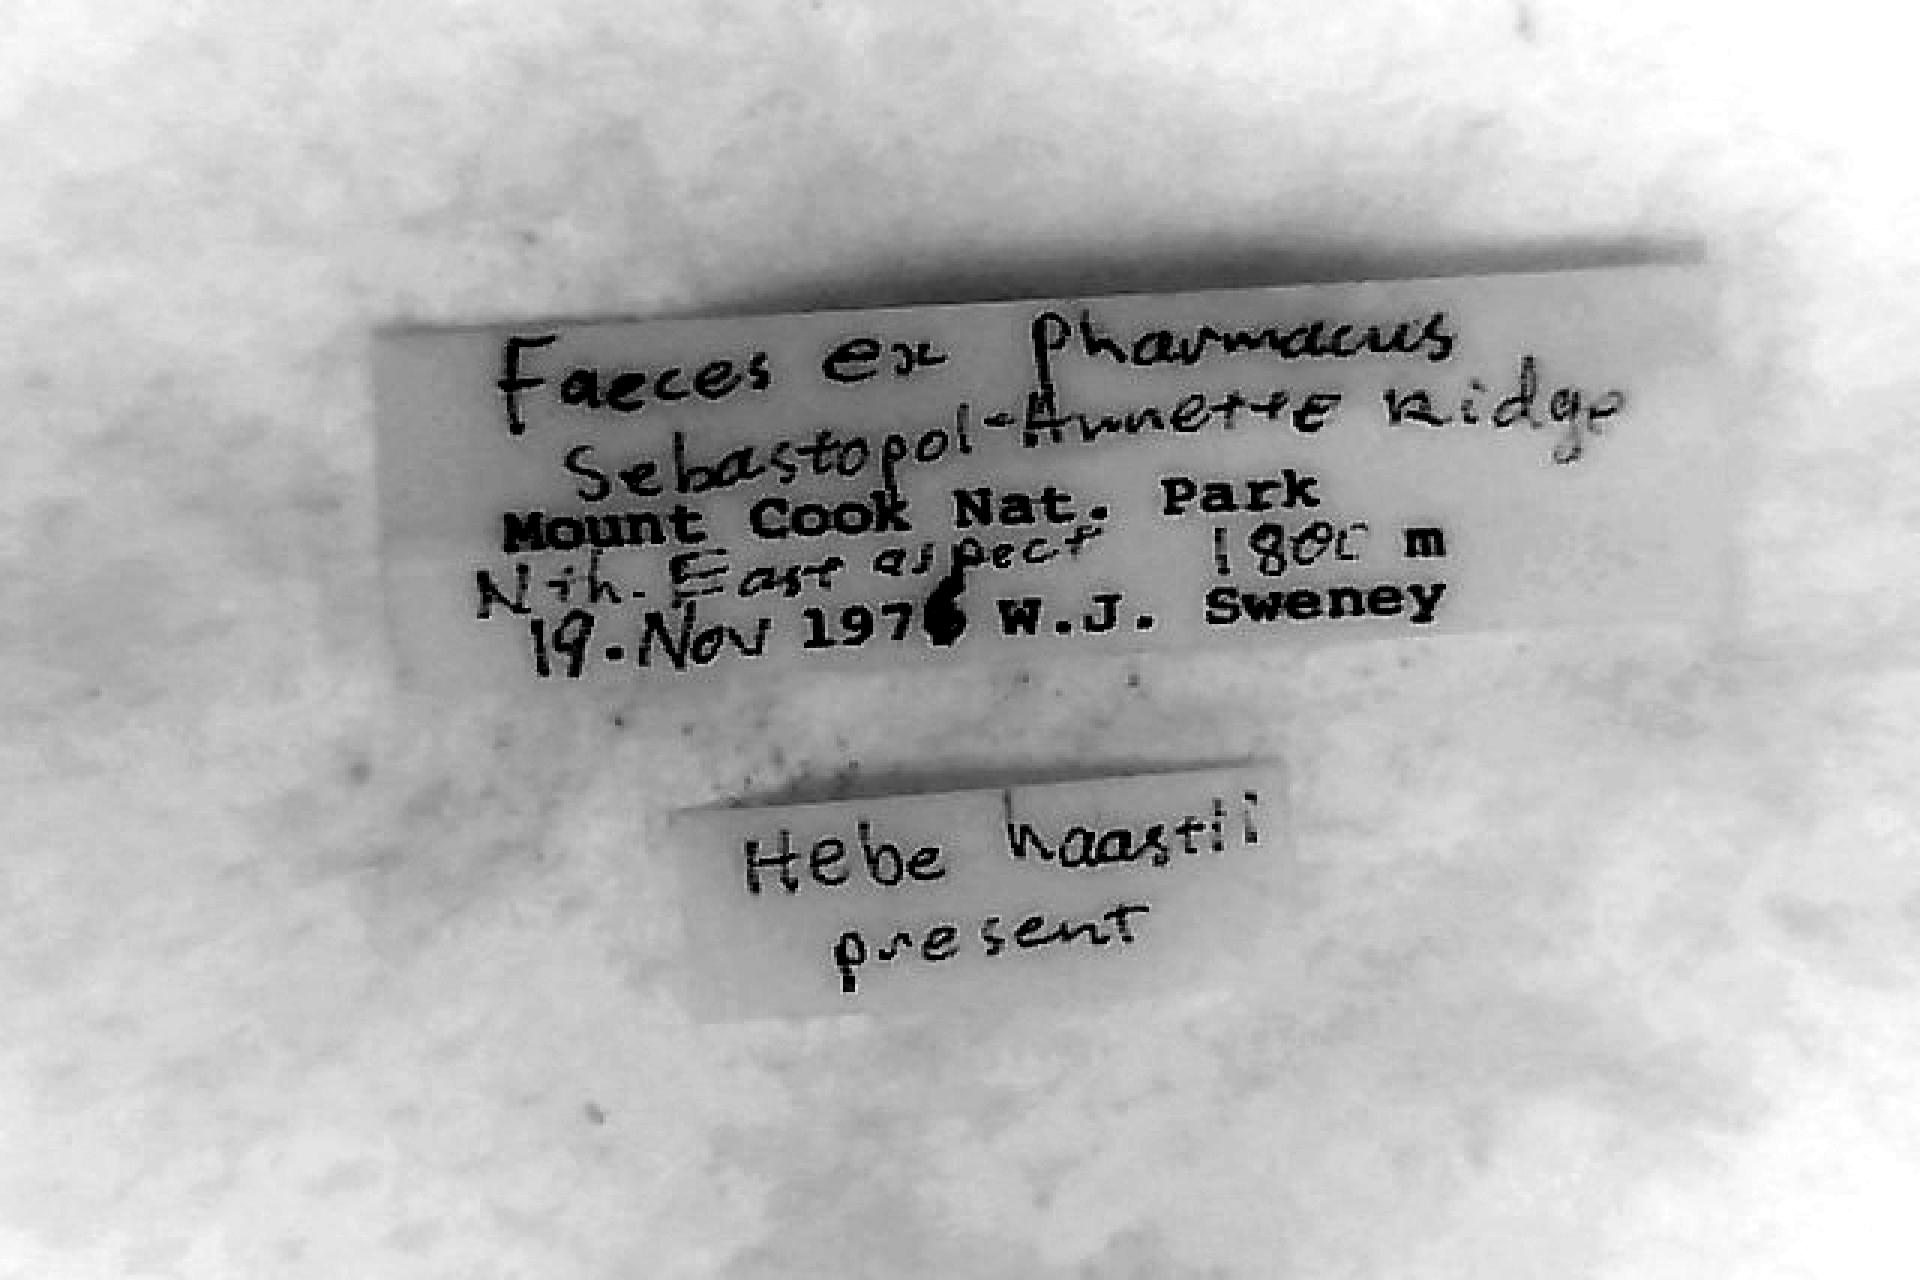hand_label: (677, 763, 1294, 1020)
mixed_label: (379, 263, 1726, 691)
